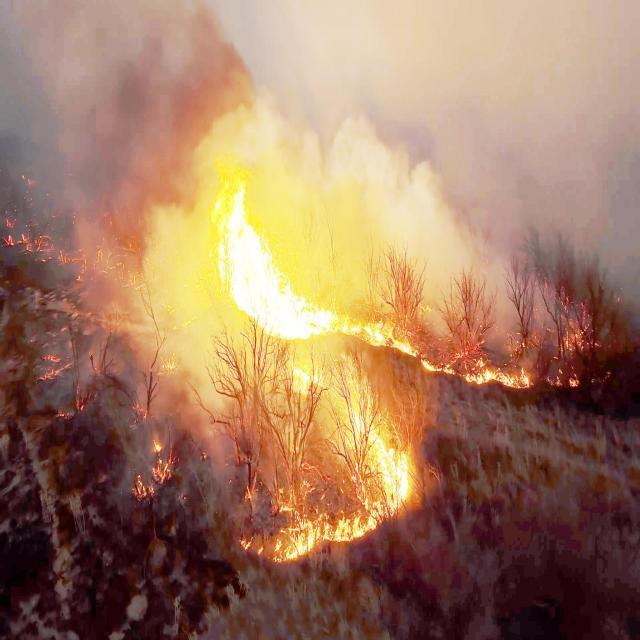Fire: (210, 190, 306, 333), (366, 417, 410, 512)
Smoke: (30, 0, 242, 193), (315, 84, 464, 276)
